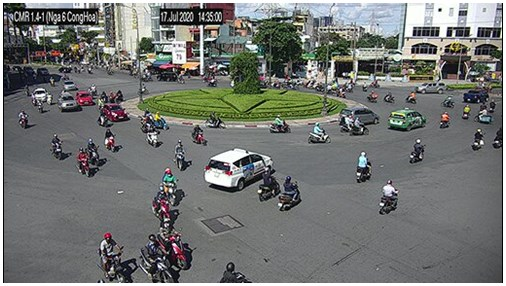xe_ban_tai: (463, 89, 490, 103)
xe_hoi: (203, 147, 274, 192), (388, 110, 426, 132), (341, 108, 380, 126), (102, 103, 130, 122), (57, 93, 78, 112), (416, 81, 446, 94), (77, 90, 92, 106), (155, 72, 177, 82), (62, 80, 75, 90)
xe_may: (139, 235, 173, 284), (157, 218, 188, 271), (97, 232, 128, 283), (152, 184, 172, 227), (279, 175, 302, 211), (259, 165, 279, 201), (379, 178, 398, 215), (306, 121, 331, 145), (355, 150, 372, 184), (163, 167, 176, 208), (75, 147, 91, 178), (206, 110, 227, 131), (270, 114, 291, 133), (351, 115, 369, 137), (141, 113, 157, 135), (409, 138, 423, 163), (338, 116, 358, 133), (51, 133, 63, 160), (87, 138, 99, 165), (176, 139, 186, 171), (192, 125, 206, 147), (474, 107, 493, 123), (152, 111, 167, 131), (104, 127, 115, 154), (146, 123, 157, 148), (473, 127, 484, 152), (141, 106, 154, 125), (18, 108, 29, 130), (437, 110, 449, 130), (98, 107, 108, 127), (494, 125, 503, 147), (441, 94, 455, 108), (383, 90, 395, 105), (405, 90, 417, 104), (367, 91, 378, 103), (206, 75, 217, 87), (336, 87, 347, 99), (36, 98, 44, 113), (463, 103, 470, 120), (116, 89, 124, 103), (89, 82, 97, 96), (370, 78, 380, 87), (47, 91, 53, 105), (490, 98, 496, 112), (48, 76, 56, 86), (479, 100, 486, 111), (25, 85, 31, 97)
